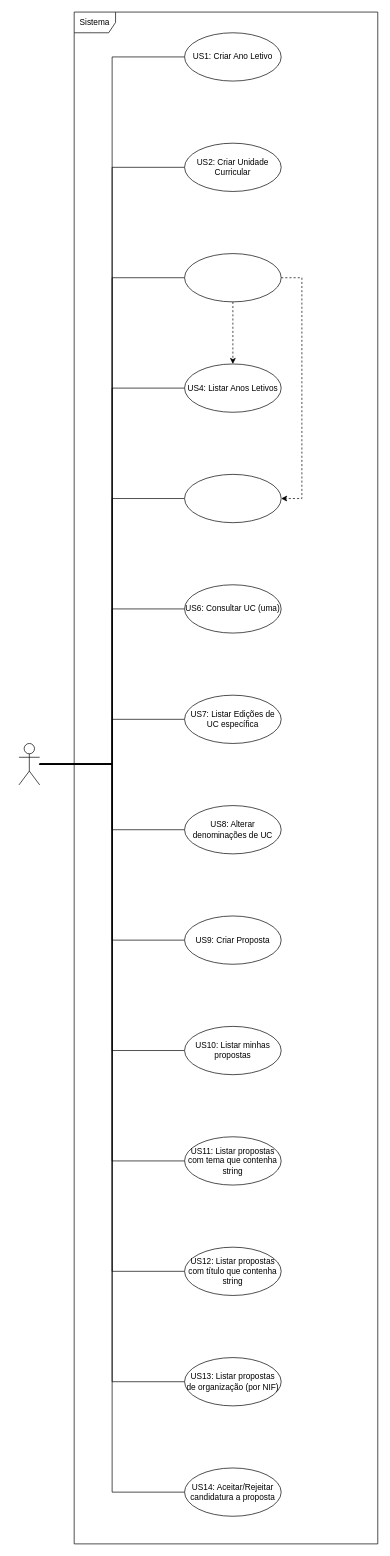
This 390x1556 diagram has some shape labels left out. The shapes that lost their labels are listed below. From the top down, each one's centre as x and y in pixels, then its label:
At point 232,277: "US3: Criar Edição de UC".
At point 232,498: "US5: Listar UCs Todas".
At point 29,764: "Utilizador".
